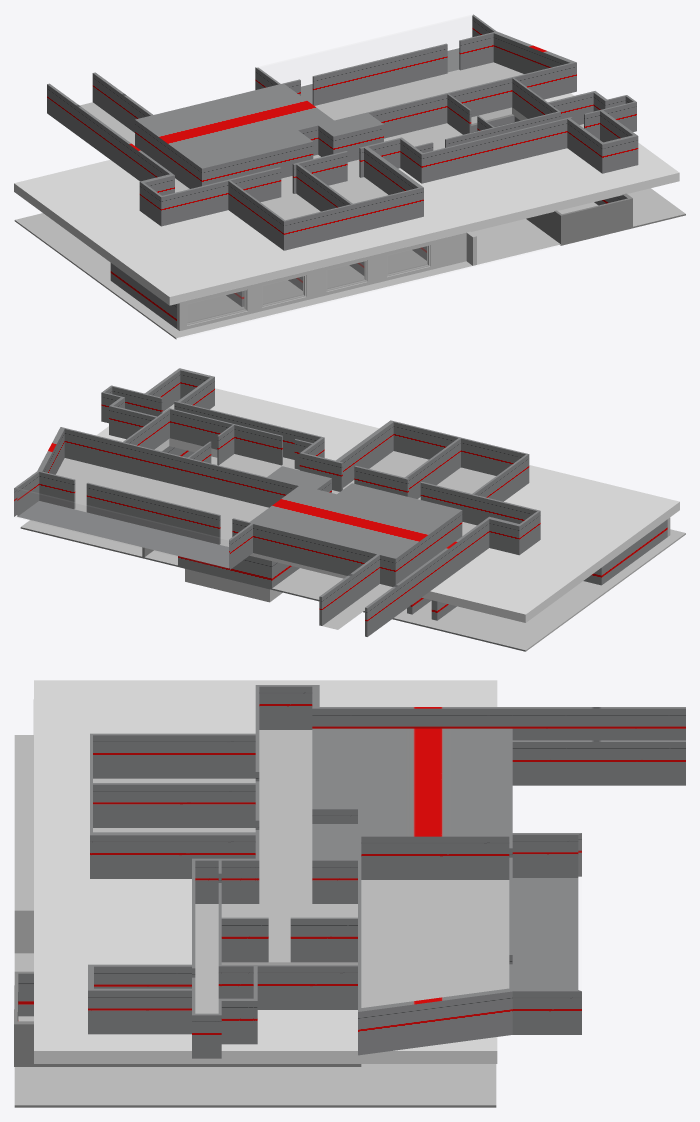
The model's file is Niveaux.FBX.
3 views of the same model, one above another, from view 1: azimuth 30°, elevation 25°; view 2: azimuth 150°, elevation 25°; view 3: azimuth 270°, elevation 25° (orthographic). The views are drawn at different scales.
Visible parts, largest first — view 1: Plane002, Box009, Box004, Box005, Box006, Box008, Box007; view 2: Plane002, Box009, Box004; view 3: Plane002, Box009, Box004.
Boxes of the visible parts, box(x1,y1,x2,y2) form: Plane002: box(47, 14, 638, 250); Box009: box(14, 93, 679, 305); Box004: box(14, 114, 685, 339); Box005: box(187, 289, 247, 325); Box006: box(262, 275, 305, 306); Box008: box(387, 245, 429, 276); Box007: box(326, 260, 367, 291); Plane002: box(14, 368, 540, 636); Box009: box(96, 388, 679, 622); Box004: box(20, 446, 685, 651); Plane002: box(88, 685, 685, 1058); Box009: box(34, 680, 497, 1063); Box004: box(14, 699, 496, 1107).
Bounding box in the file's own units: 5082 × 773 × 3815.
